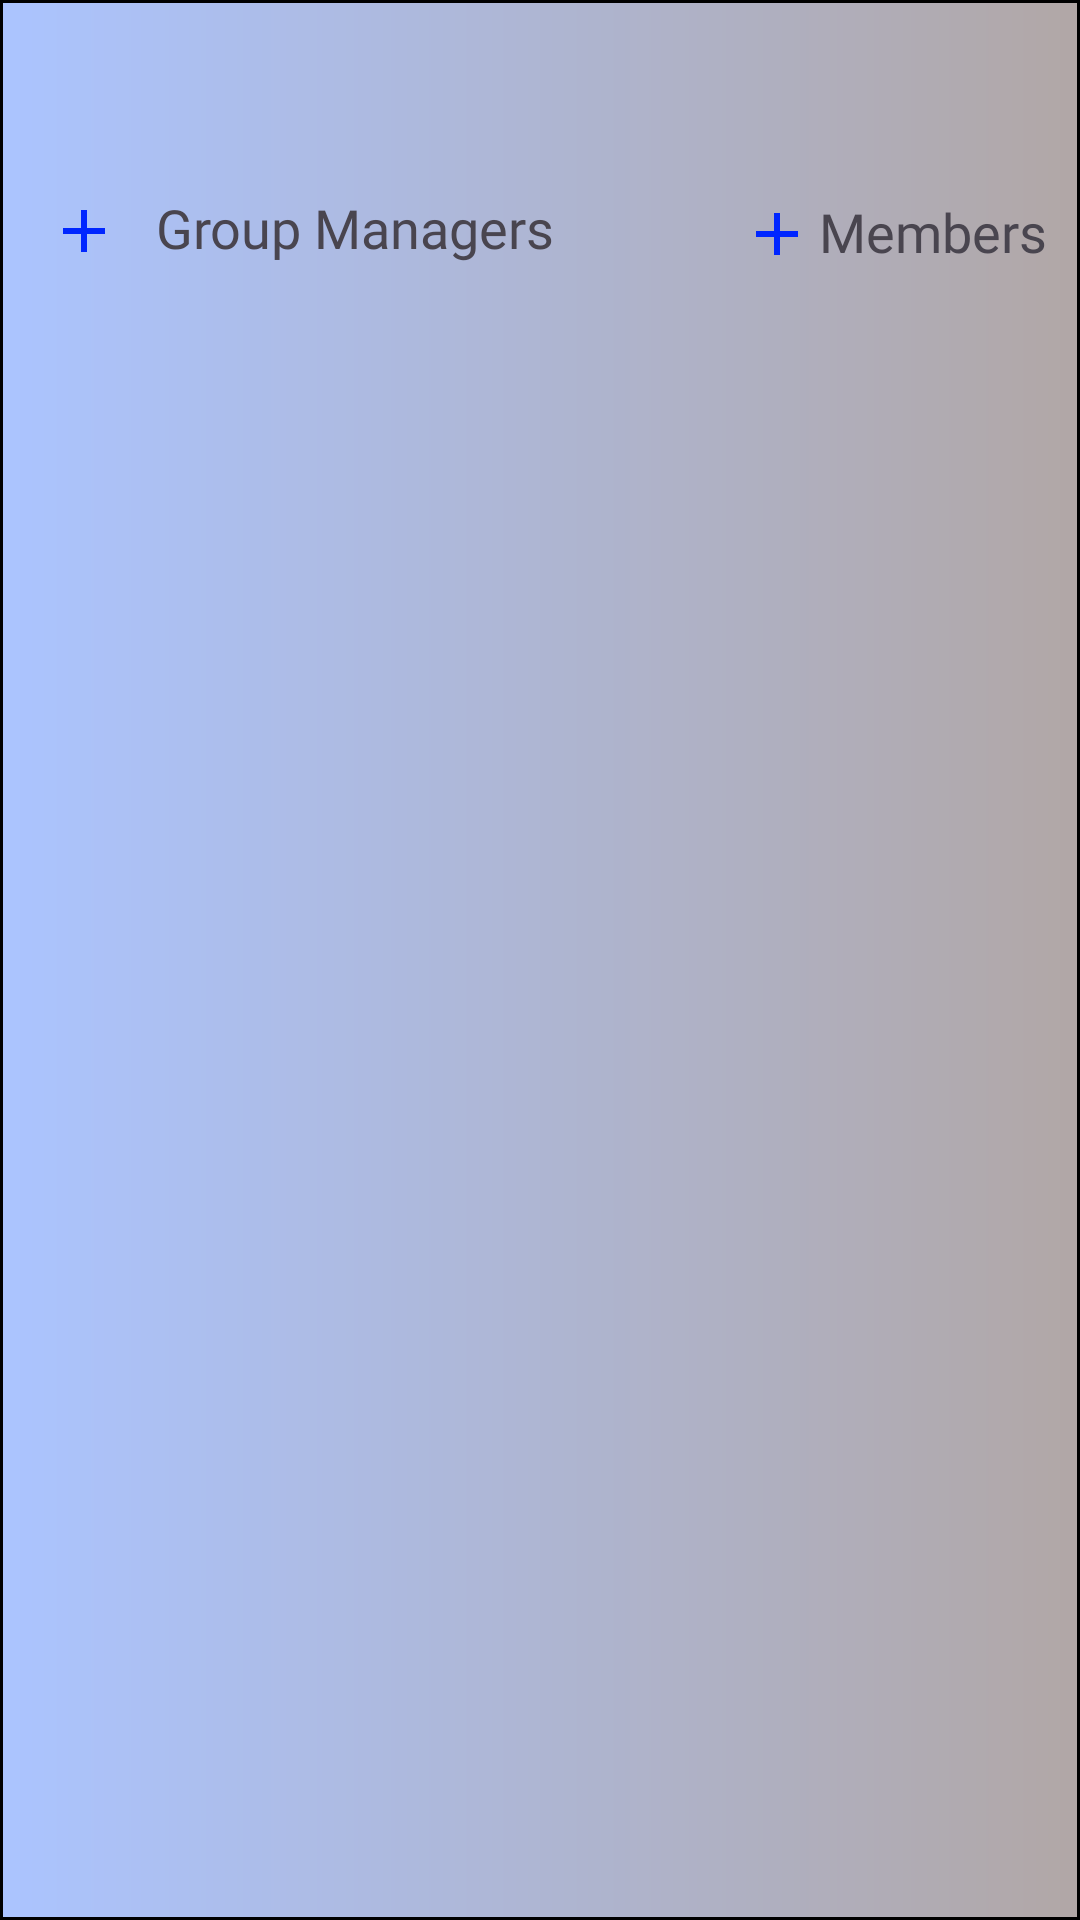

Point at icon controls on the screen. Image size 1080px×1920px, points as [x,y].
plus: [84,231], [777,234]
